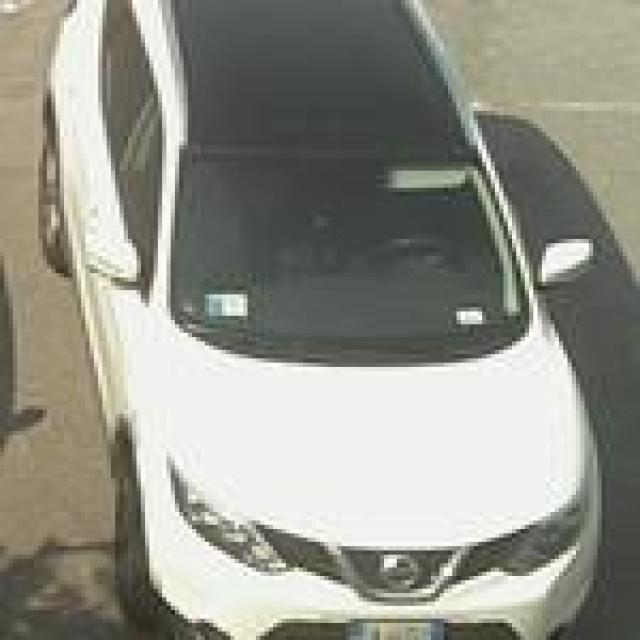cars-sUYr: (25, 0, 620, 640)
